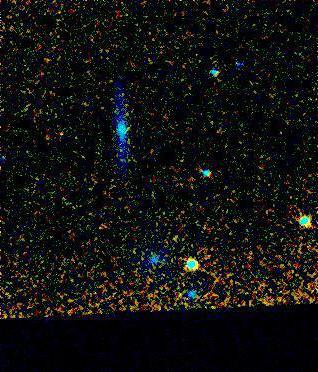star: (161, 223, 191, 253)
